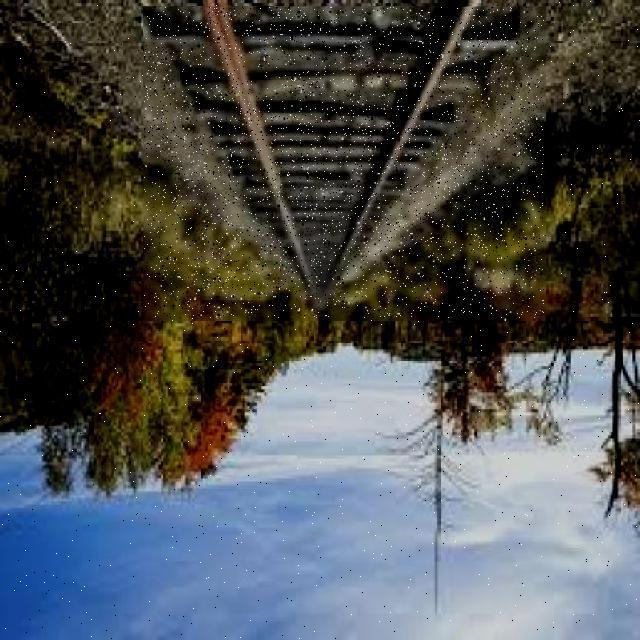rail: (145, 8, 544, 318)
